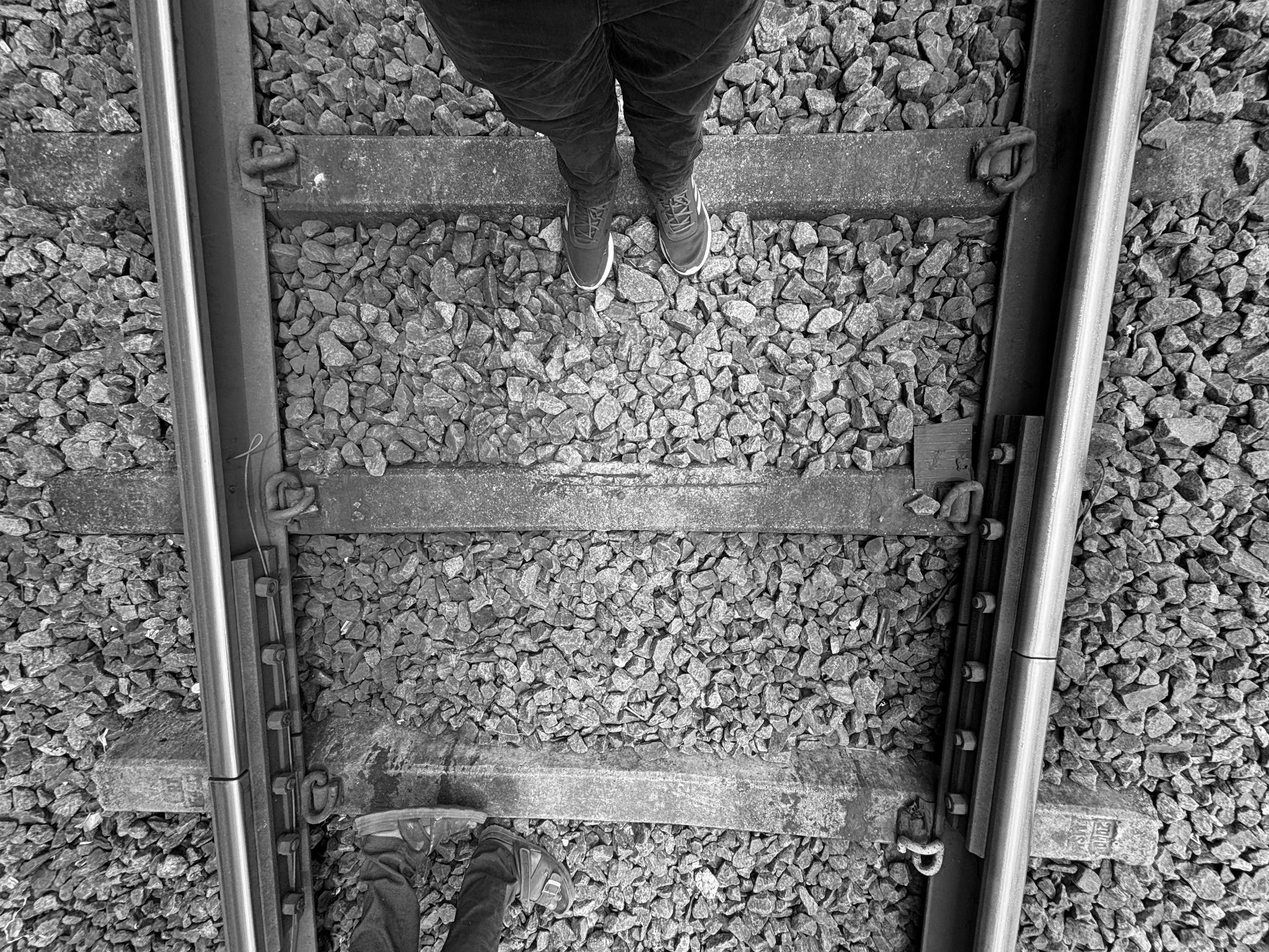cracks in midportion: (491, 454, 825, 505)
